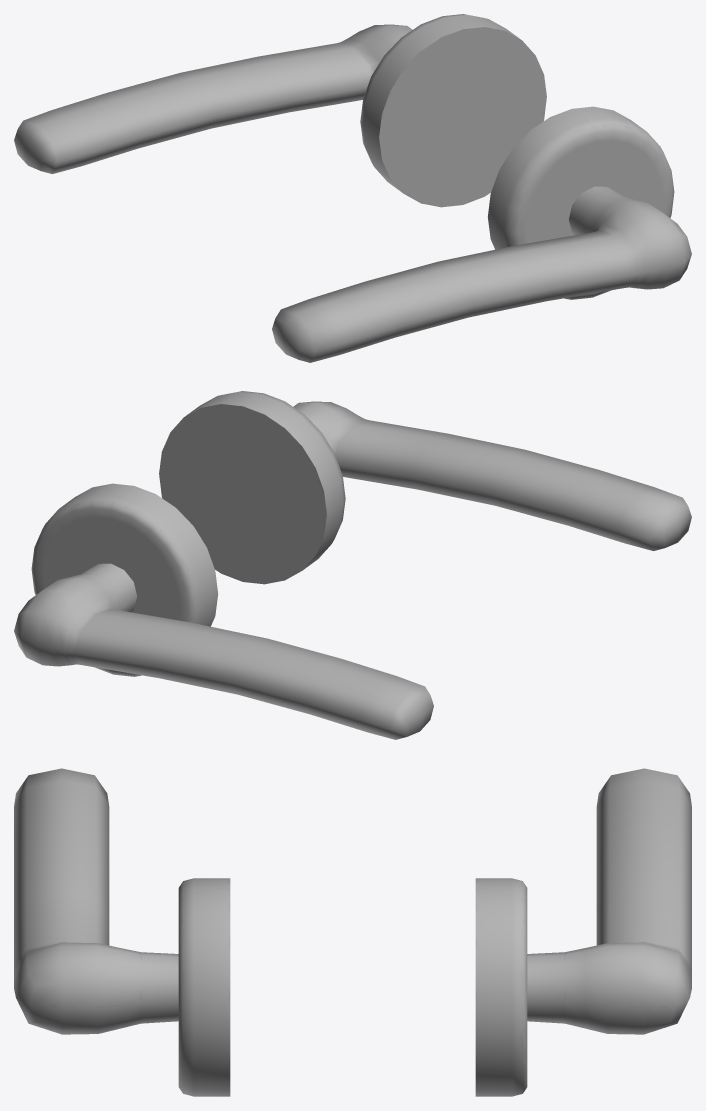
File: DoorHandle.fbx
The picture shows the model from 3 angles, top to bottom: view 1: azimuth 30°, elevation 25°; view 2: azimuth 150°, elevation 25°; view 3: azimuth 270°, elevation 25°; orthographic projection. The views are drawn at different scales.
Parts seen in each view (by area): view 1: D2-DoorHandle.001; view 2: D2-DoorHandle.001; view 3: D2-DoorHandle.001.
Part boxes in pixels (<box>): D2-DoorHandle.001: <box>14,14,691,362</box>; D2-DoorHandle.001: <box>14,391,691,739</box>; D2-DoorHandle.001: <box>14,768,691,1096</box>.
Size of the model in its own units: 19.13 by 7.19 by 22.26.
Materials: 1 (1 with a texture image).
